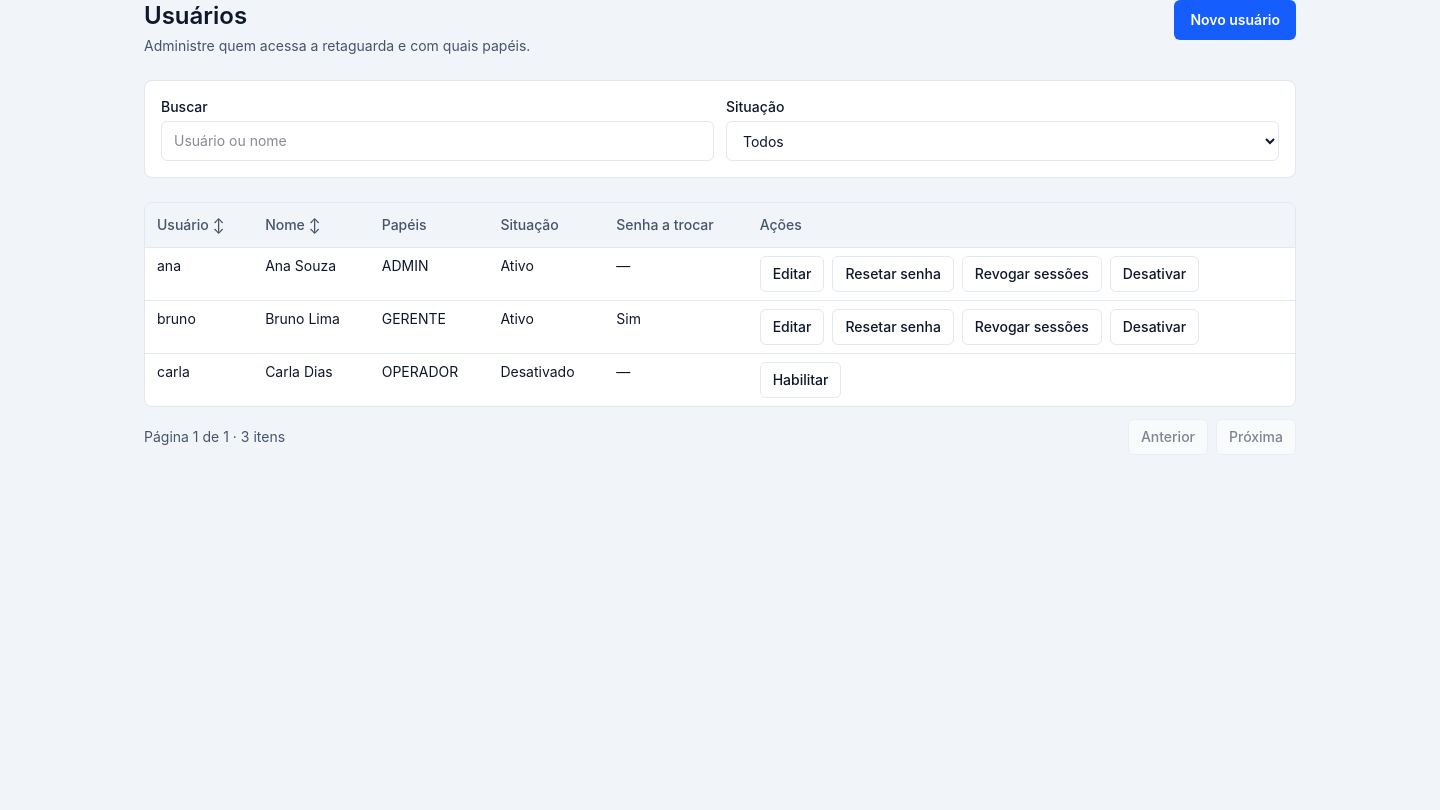
Test: UsersPage — criação › envia usuário, nome, senha e papéis do contrato
Expected: the cell "ana" is shown, [145,248,253,300]
Step 1. Click the button "Novo usuário" → (1235, 20), box [1174,0,1296,40]
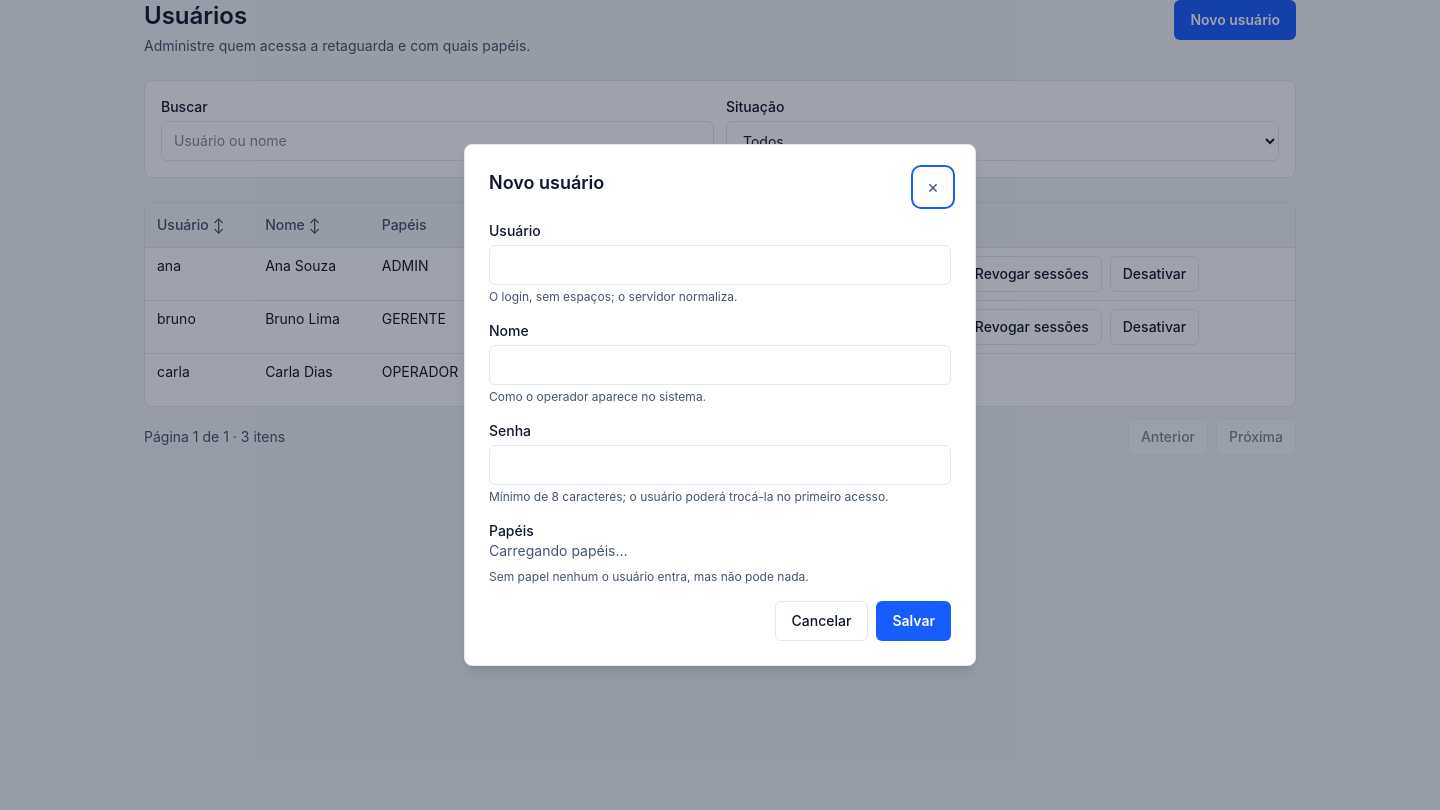
Step 2. Type "diego" into the field labelled "Usuário" → (720, 265), box [489,245,951,285]
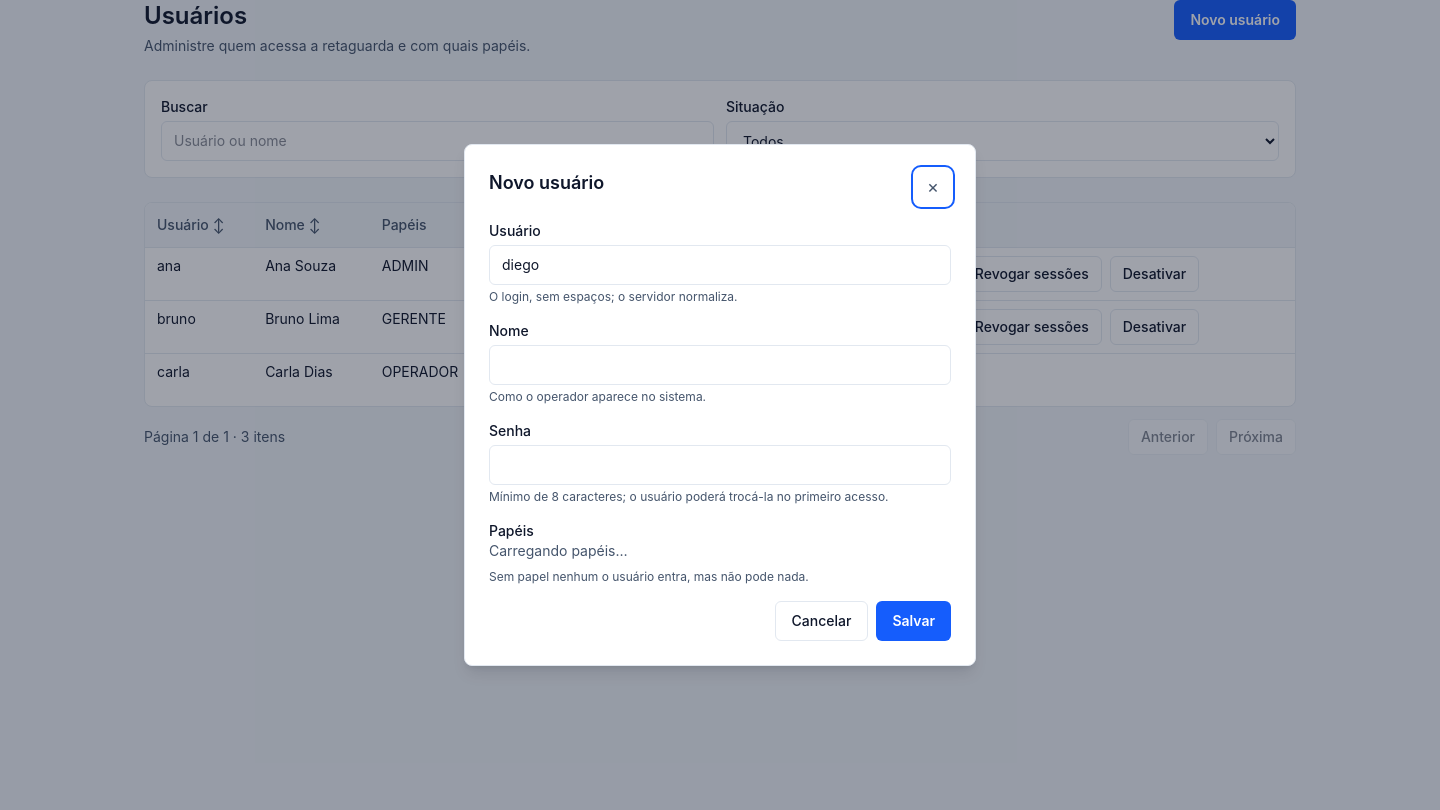
Step 3. Type "Diego Alves" into the field labelled "Nome" → (720, 365), box [489,345,951,385]
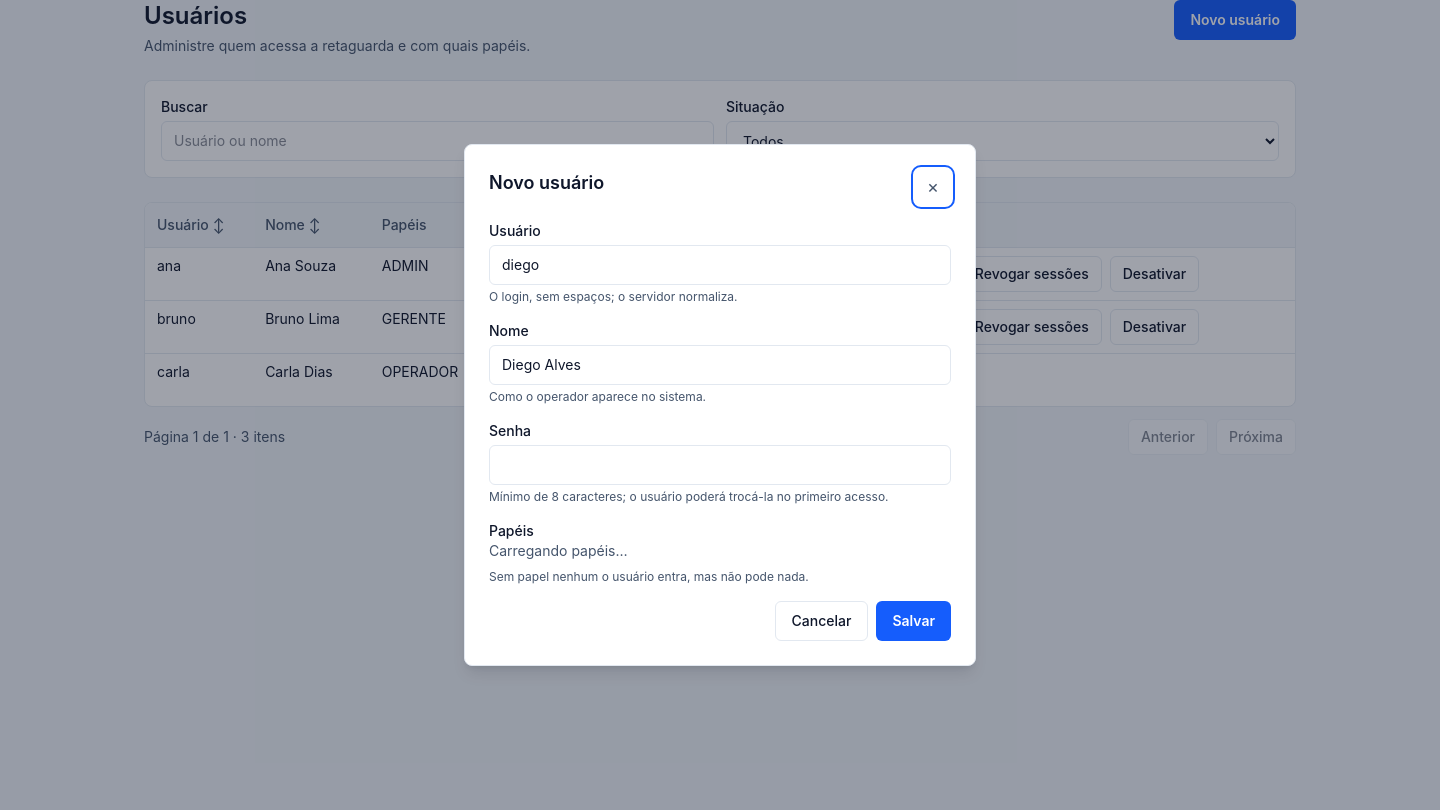
Step 4. Type "segredo12" into the password field labelled "Senha" → (720, 465), box [489,445,951,485]
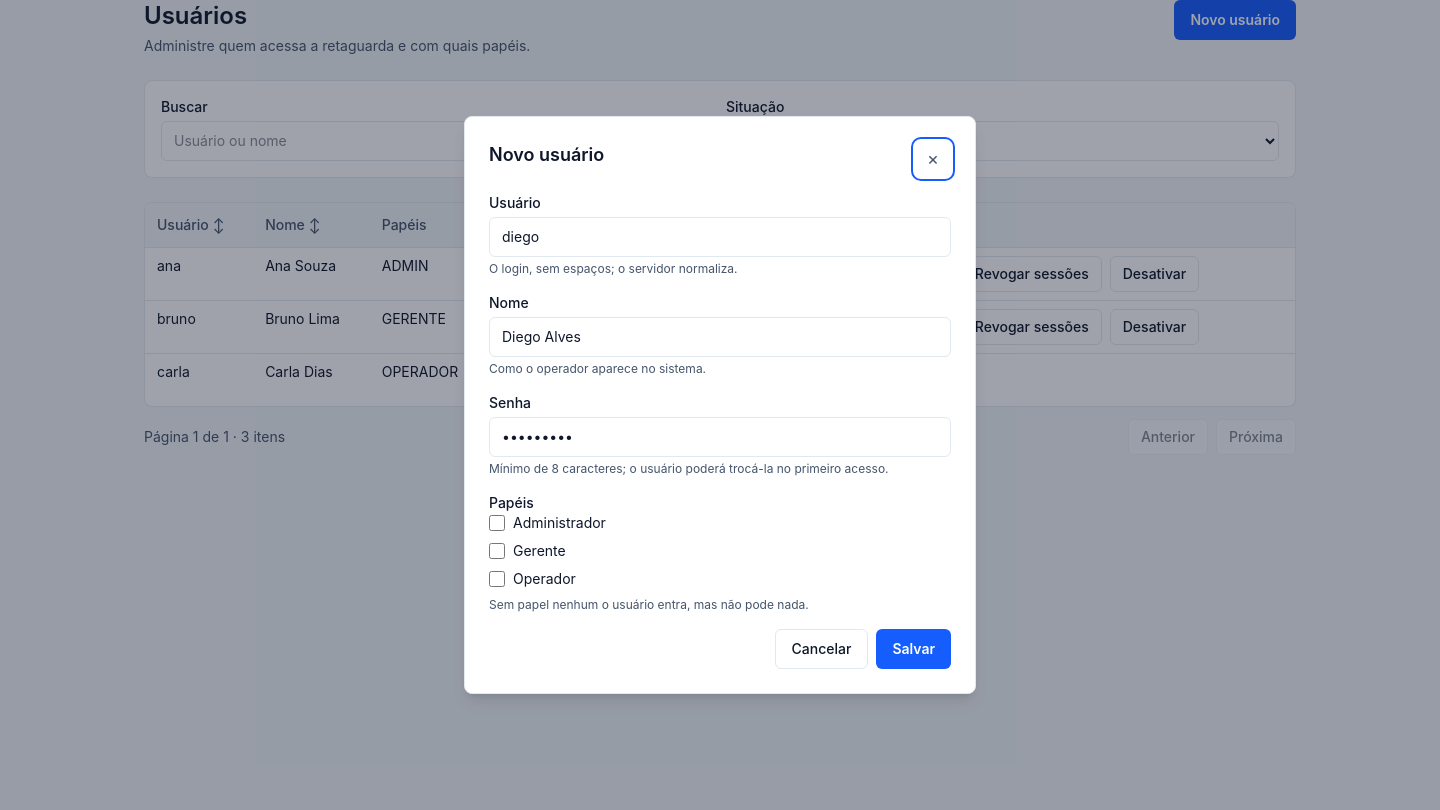
# Os papéis chegam de `GET /roles`: o checkbox só existe depois da resposta.
Step 5. Click the checkbox labelled "Operador" → (497, 579), box [489,571,505,587]
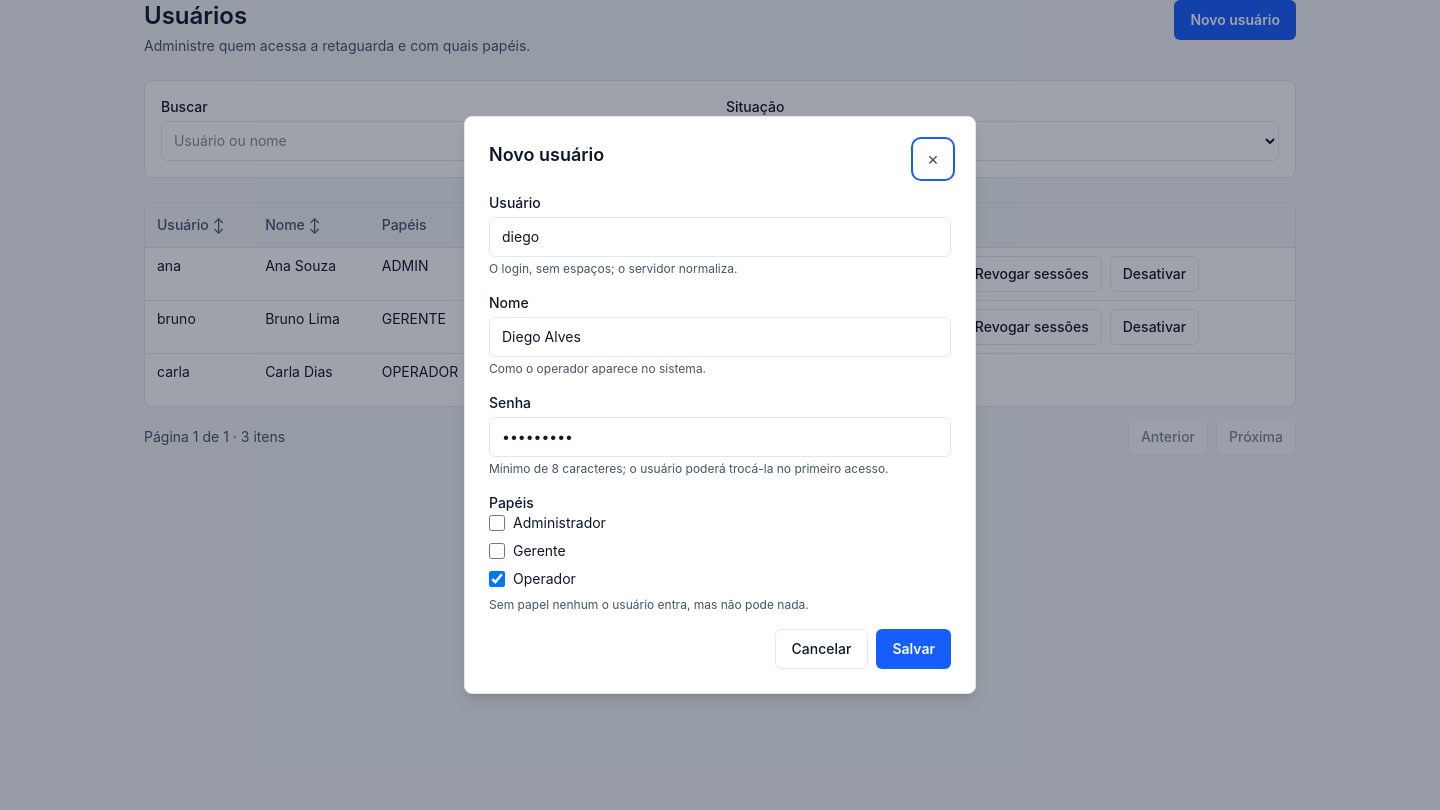
Step 6. Click the button "Salvar" → (914, 649), box [876,629,951,669]
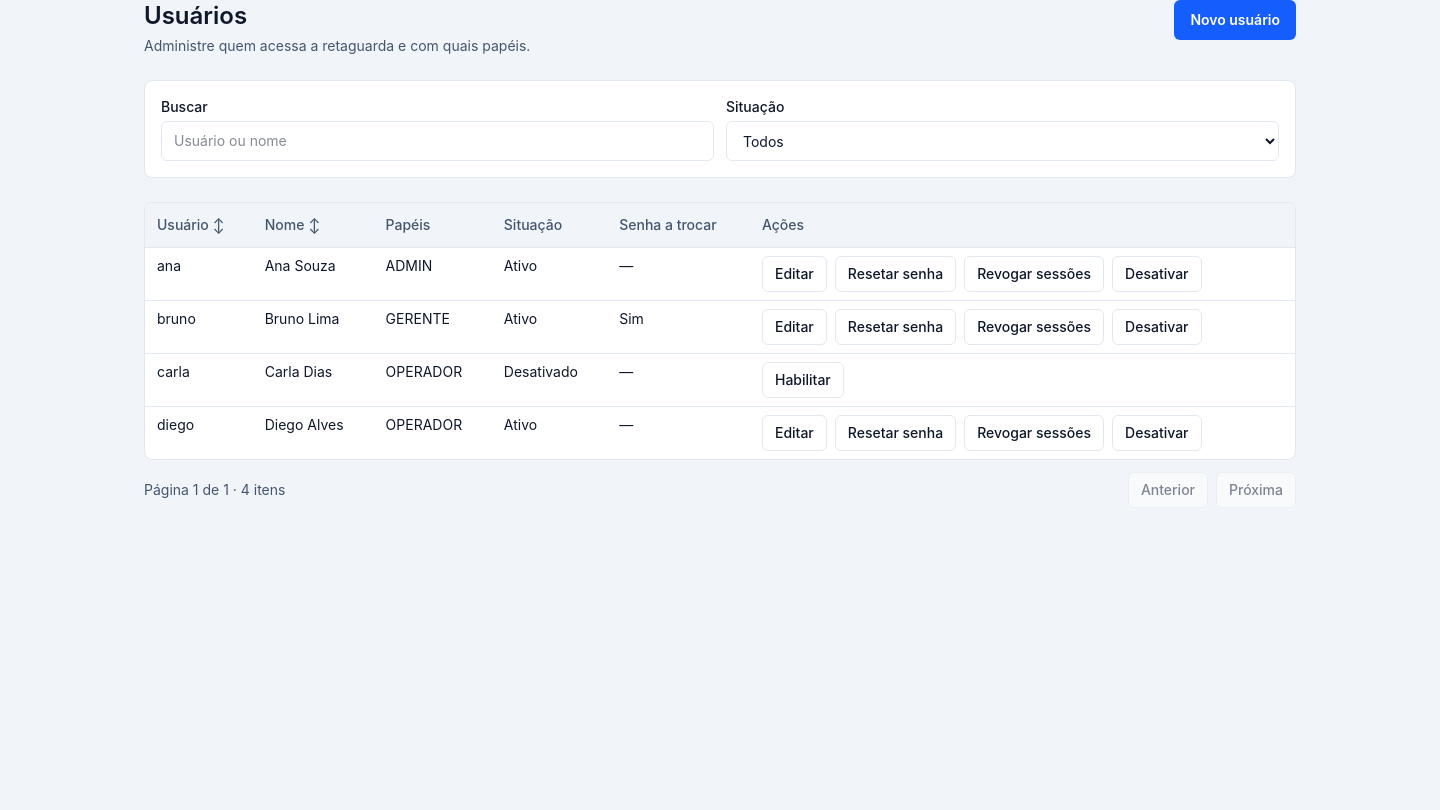
Expected: the cell "diego" is shown, [145,406,253,459]
Expected: the dialog is gone
